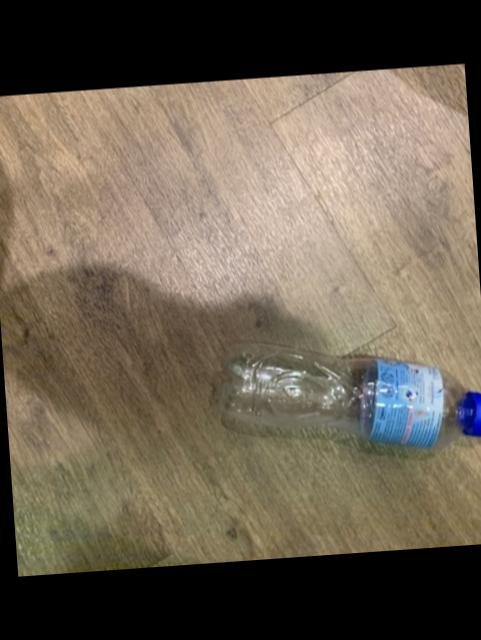plastic: (221, 346, 481, 449)
